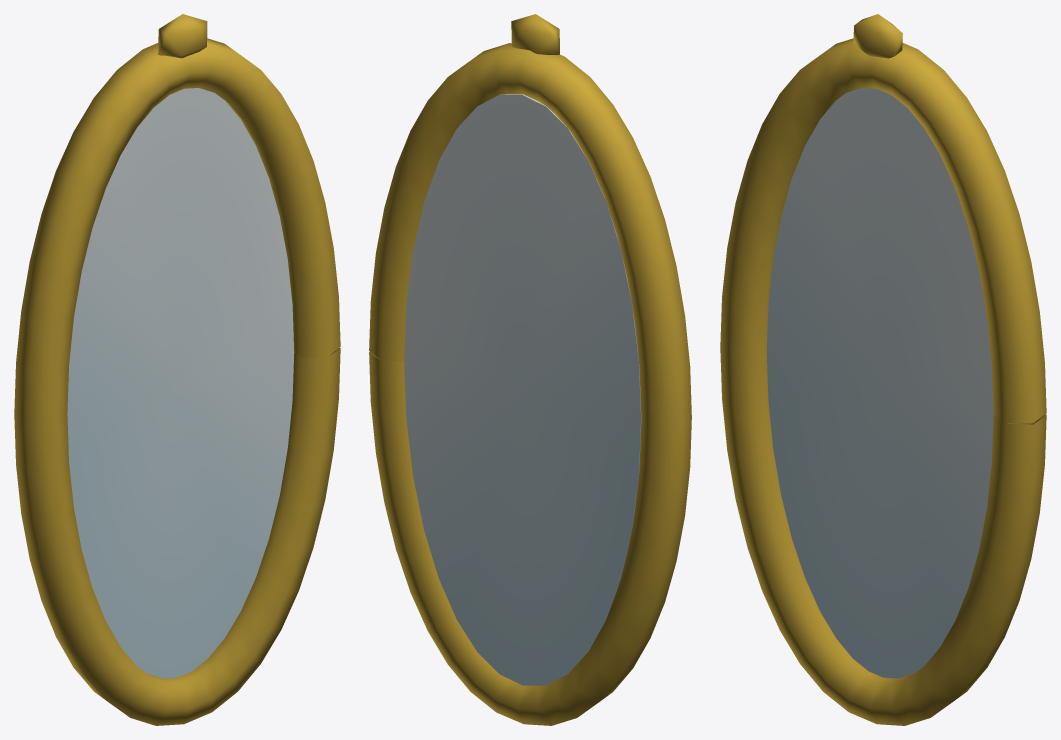
The model's file is furn_salon_mirror.glb.
The picture shows the model from 3 angles, left to right: view 1: azimuth 30°, elevation 25°; view 2: azimuth 150°, elevation 25°; view 3: azimuth 330°, elevation 25°; orthographic projection.
Parts seen in each view (by area): view 1: furn_salon_mirror_gloss; view 2: furn_salon_mirror_gloss; view 3: furn_salon_mirror_gloss.
Part boxes in pixels (x1,y1,x2,y2): furn_salon_mirror_gloss: (14, 14, 340, 725); furn_salon_mirror_gloss: (369, 14, 691, 725); furn_salon_mirror_gloss: (720, 14, 1046, 725).
Bounding box in the file's own units: 0.6806 × 1.47 × 0.1.
